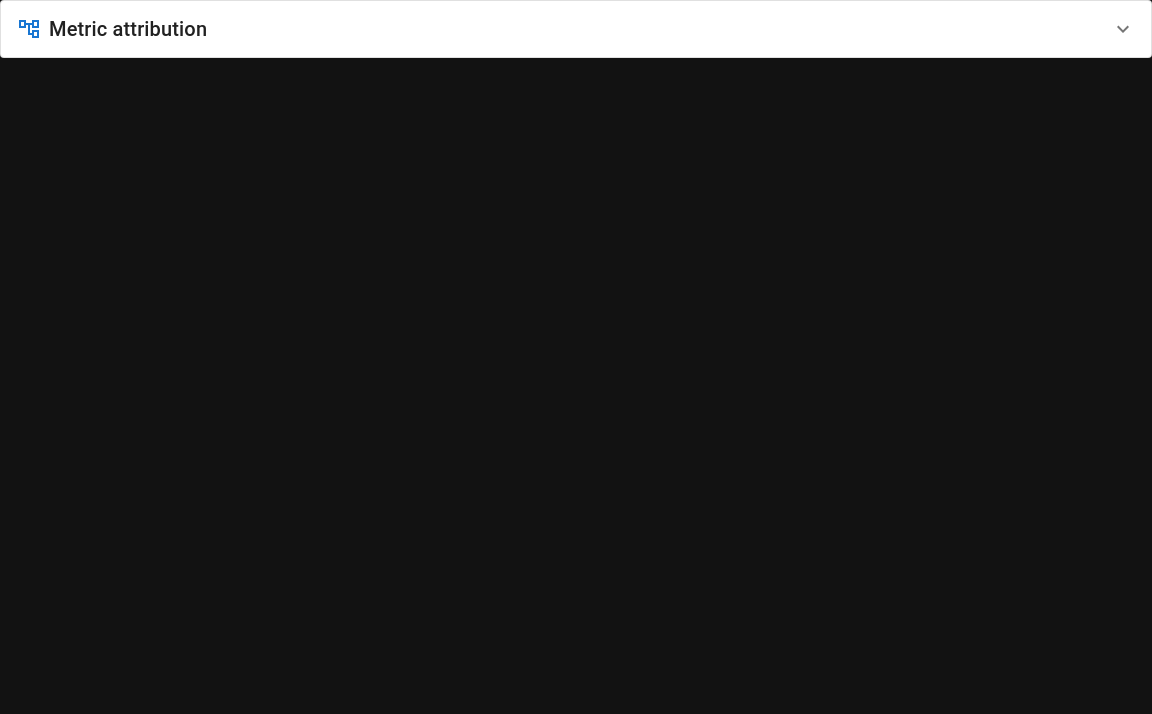
Test: AttributionPanel › loads only when opened and shows the UID chain, pods, and substituted families
Click the button "Metric attribution". click: (128, 29)
box: [1, 1, 1151, 57]
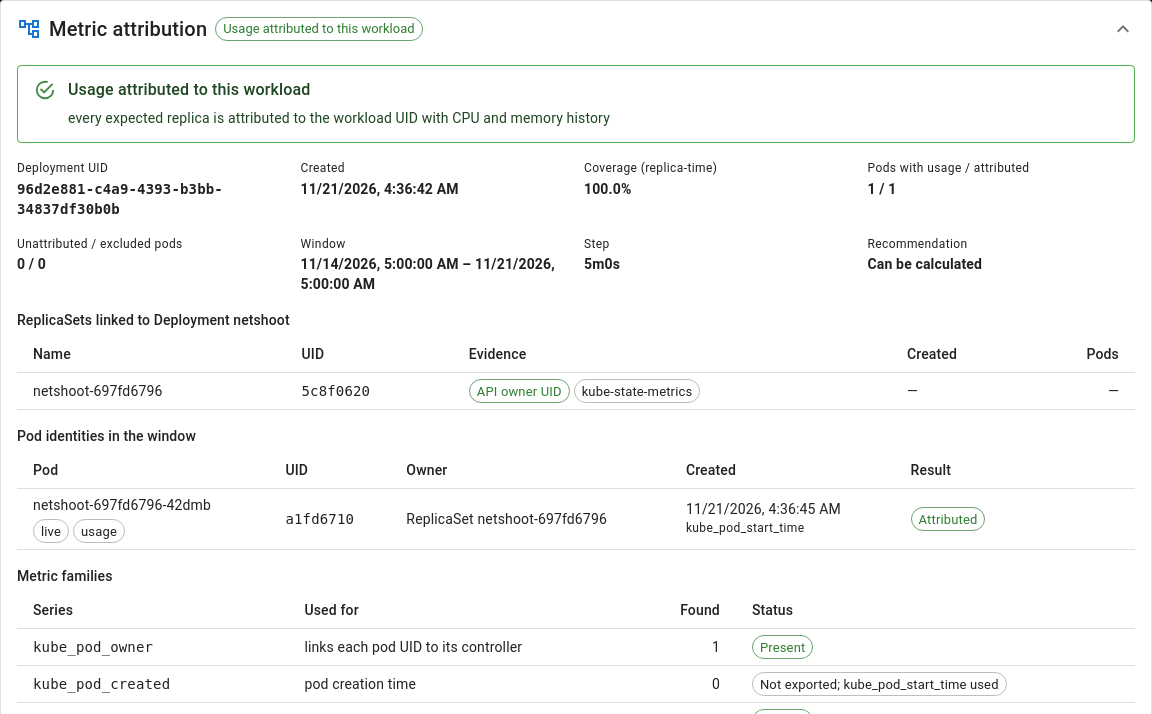
expect the text "every expected replica is attributed to the workload UID with CPU and memory history" is shown: met, box [68, 110, 610, 126]
expect the text "96d2e881-c4a9-4393-b3bb-34837df30b0b" is shown: met, box [17, 180, 223, 216]
expect the text "API owner UID" is shown: met, box [470, 382, 569, 401]
